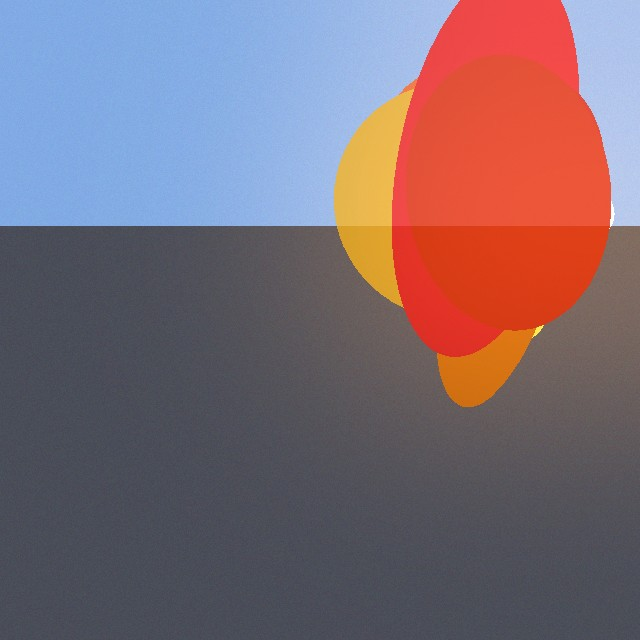fire: (381, 83, 617, 355)
